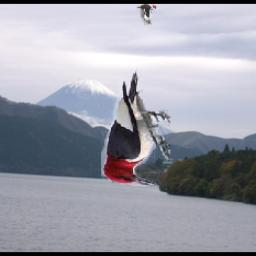Woodpecker: (102, 68, 171, 186), (136, 4, 158, 25)
